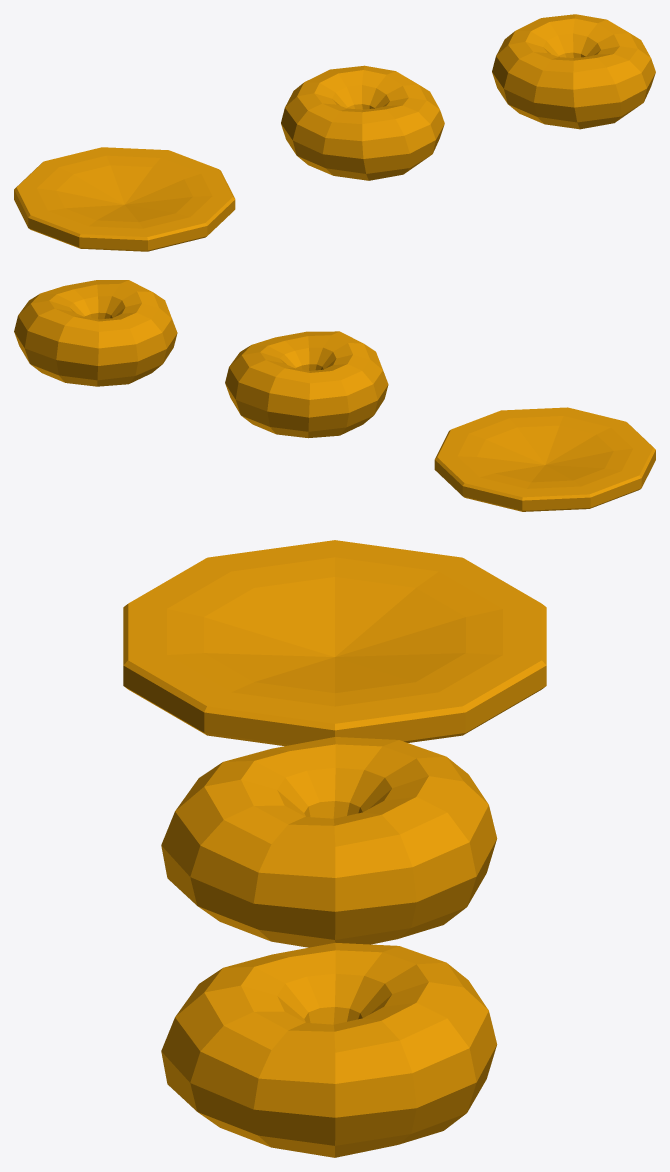
File: prato_donuts.fbx
3 renders of one model, top to bottom at view 1: azimuth 30°, elevation 25°; view 2: azimuth 150°, elevation 25°; view 3: azimuth 270°, elevation 25°, orthographic. The views are drawn at different scales.
Visible parts, largest first — view 1: prato, donut2, donut1; view 2: prato, donut1, donut2; view 3: prato, donut2, donut1.
Boxes of the visible parts, box(x1,y1,x2,y2) form: prato: box(14, 147, 235, 251); donut2: box(492, 14, 655, 129); donut1: box(281, 65, 444, 180); prato: box(434, 407, 655, 511); donut1: box(225, 331, 388, 438); donut2: box(14, 280, 177, 386); prato: box(123, 540, 546, 746); donut2: box(161, 942, 497, 1157); donut1: box(161, 737, 497, 947).
Bounding box in the file's own units: 51.35 × 5.61 × 15.26.
